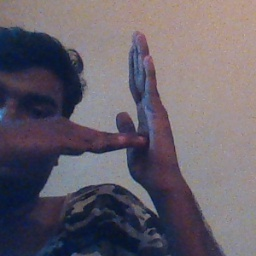Z: (76, 30, 196, 193)
